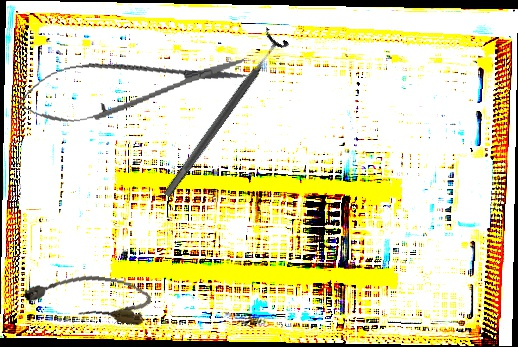Cannula: (21, 265, 154, 327)
Fixation Ring: (153, 26, 292, 205)
Micro Scissor: (13, 38, 251, 133)
